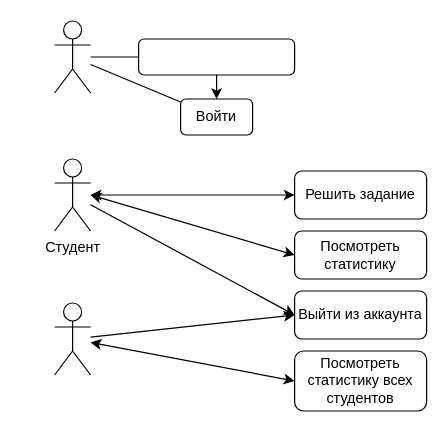
Some shapes in this 448 by 432 pixel diagram are drawn without their labels. The centre of each missing label's shape, as x and y in pixels:
Гость: the point at 72,56
Зарегистрироваться: the point at 216,56
Преподаватель: the point at 72,338
